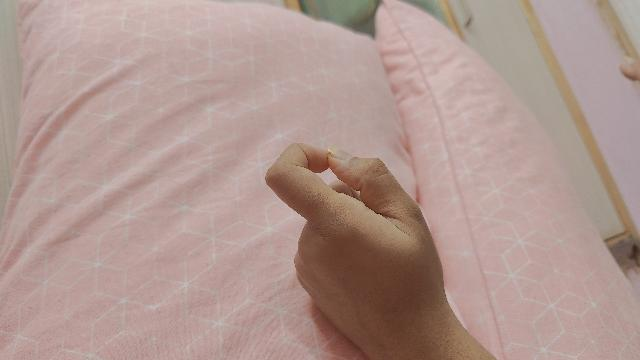kapitth: (264, 145, 497, 360)
